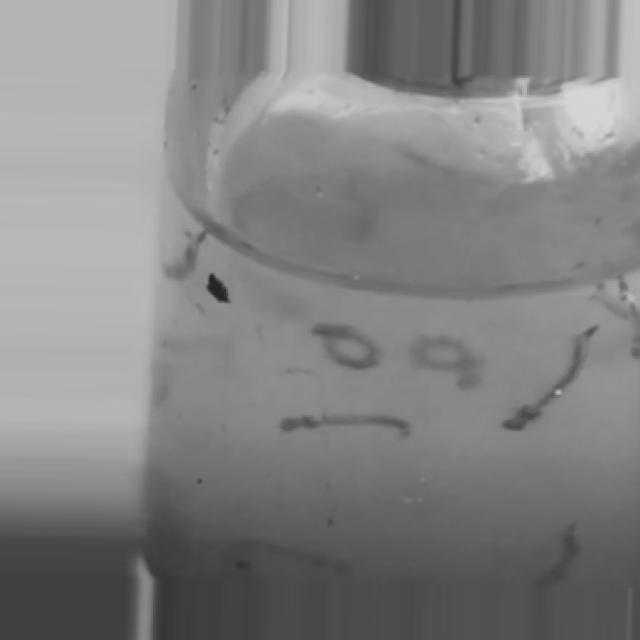larvas: (507, 324, 597, 425), (228, 528, 339, 571), (282, 406, 404, 439), (322, 318, 381, 377), (544, 520, 592, 580), (418, 336, 471, 388), (164, 227, 209, 278)
